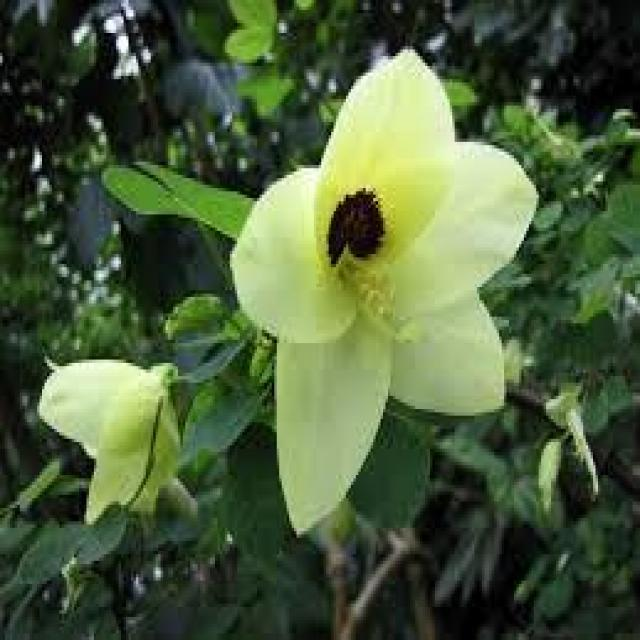organic waste: (236, 62, 518, 504), (39, 342, 208, 540)
